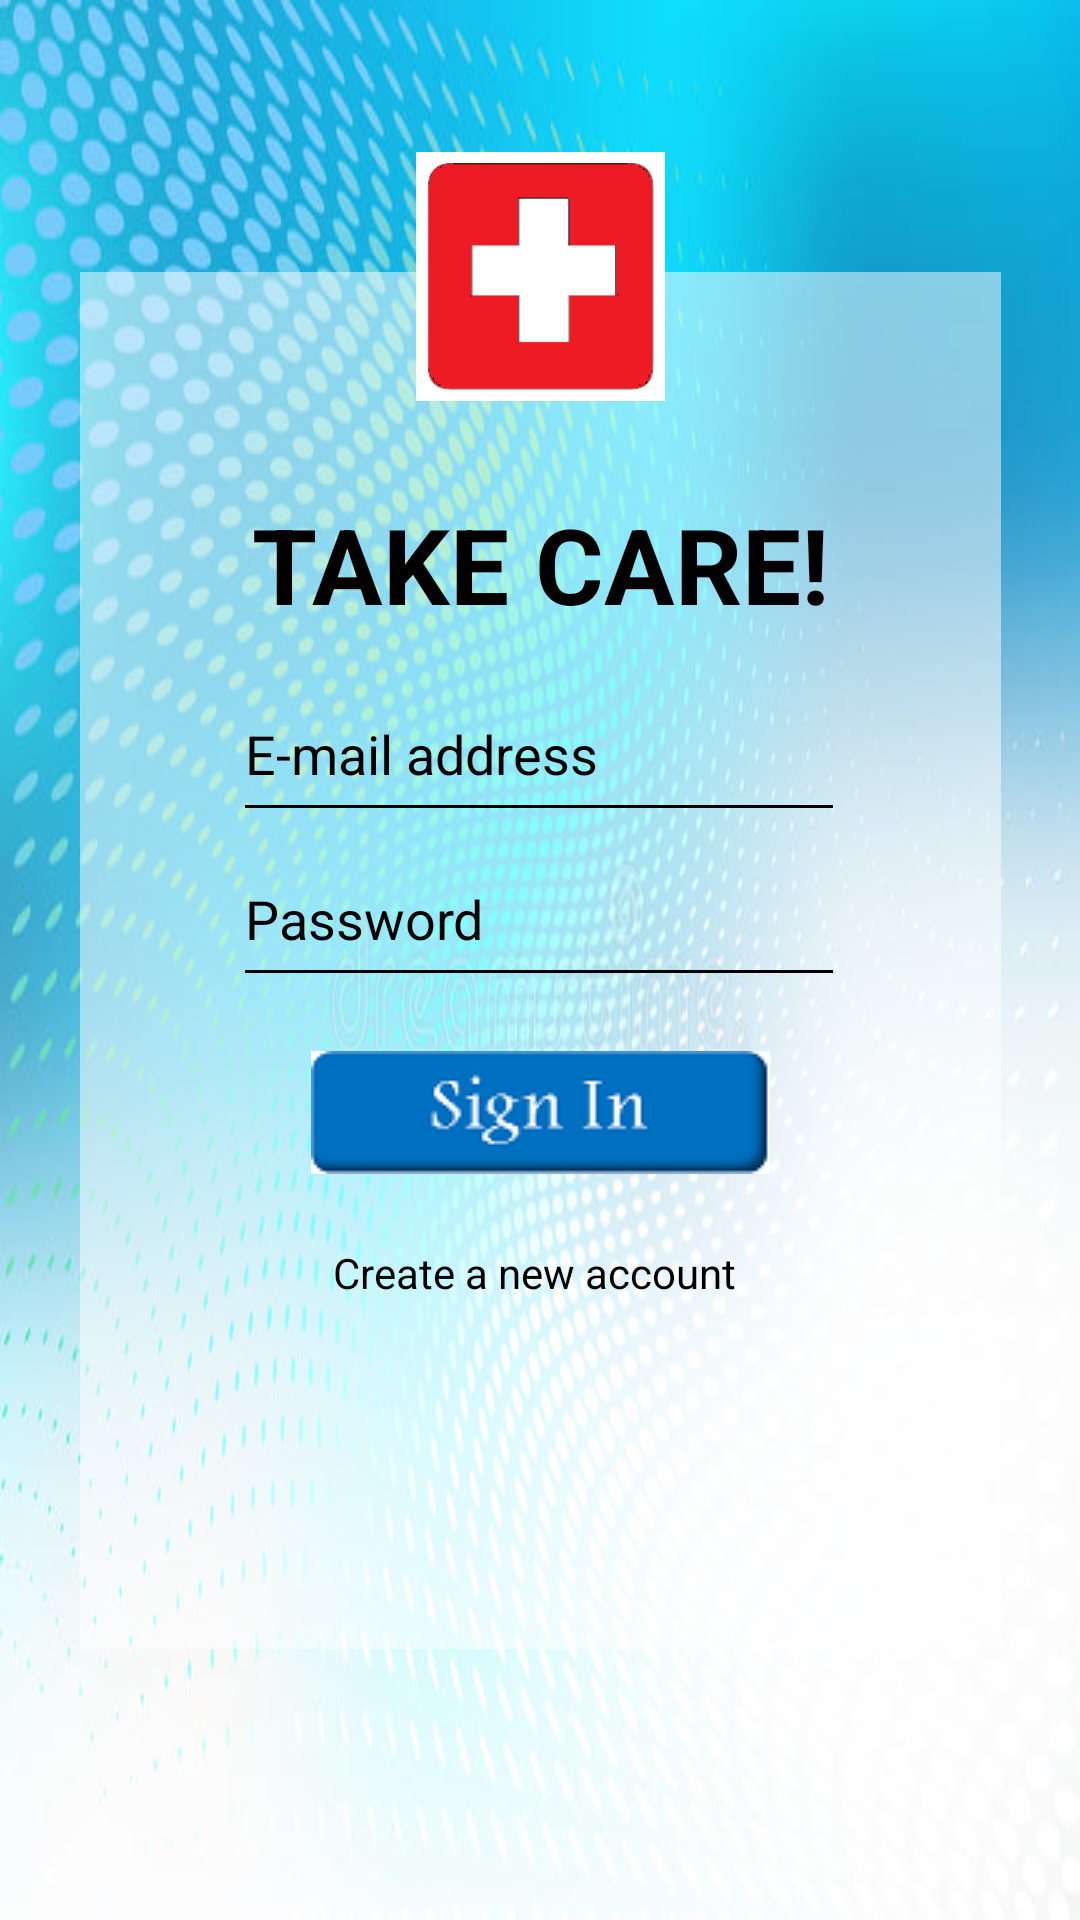

Icon click points for this 1080×1920 phone screenshot, format (x=x, y=y):
appicon: (x=540, y=276)
